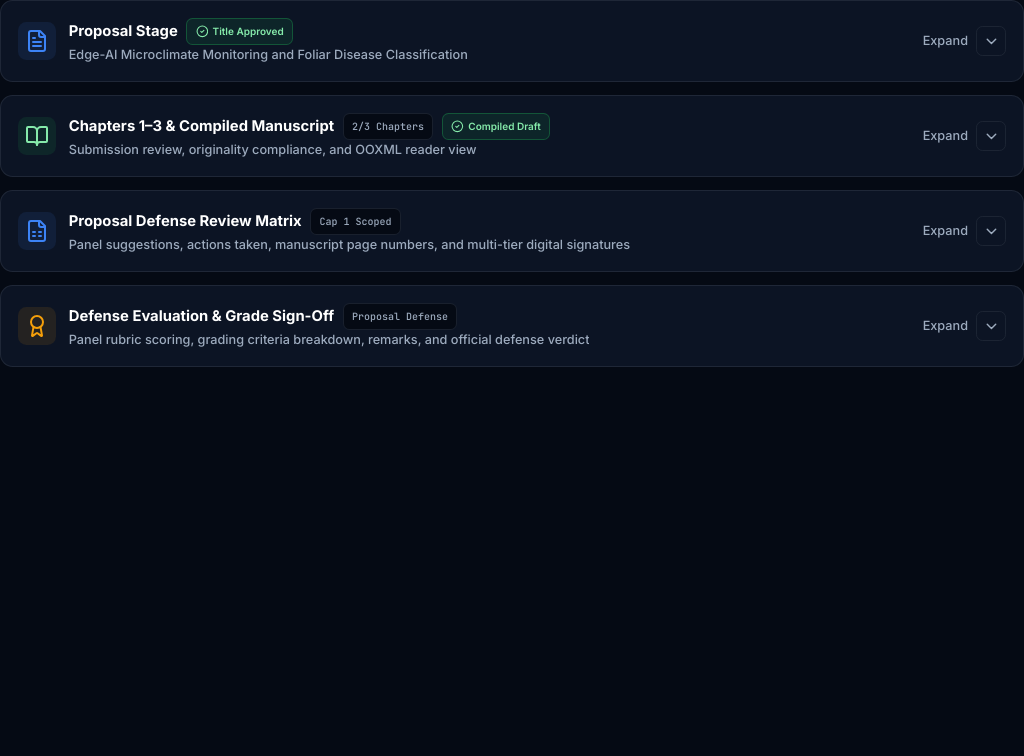
Test: Capstone1CollapsibleSections Component Suite › expands Manuscript section and shows Chapters 1-3 cards for students
Click the button with test id "toggle-manuscript-section".
click(512, 136)  # box x1=1 y1=96 x2=1023 y2=176
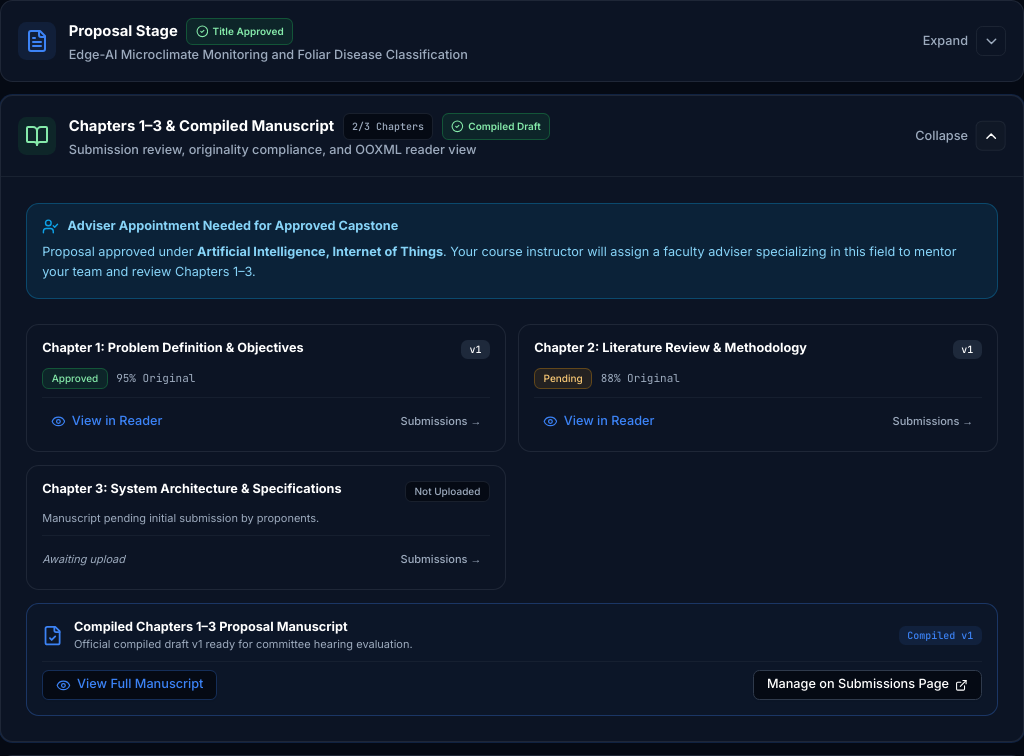
expect the button with test id "toggle-manuscript-section" is expanded: met, box x1=1 y1=96 x2=1023 y2=176
expect the text "Chapter 1: Problem Definition & Objectives" is shown: met, box x1=42 y1=340 x2=304 y2=357
expect the text "Chapter 2: Literature Review & Methodology" is shown: met, box x1=534 y1=340 x2=807 y2=357
